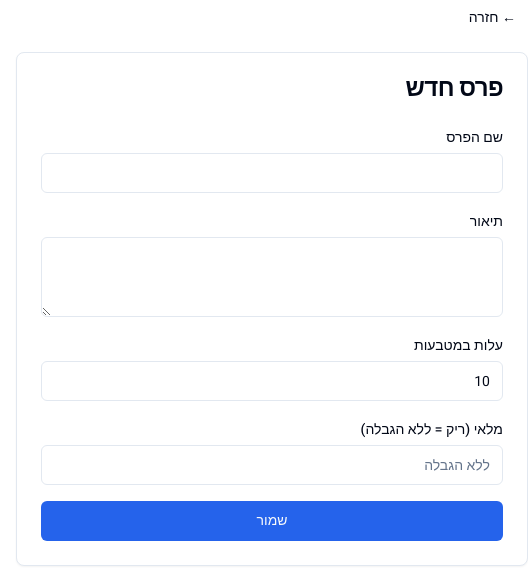
Test: RewardFormPage — create mode › disables submit button while saving
Type "גלידה" into the field labelled "שם הפרס" at x=272, y=173, box [41,153,503,193]
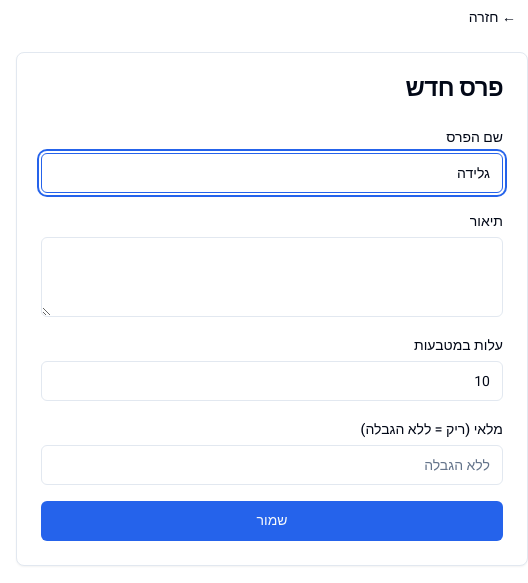
Replace the text in the number field labelled "עלות במטבעות" with "20" at x=272, y=381, box [41,361,503,401]
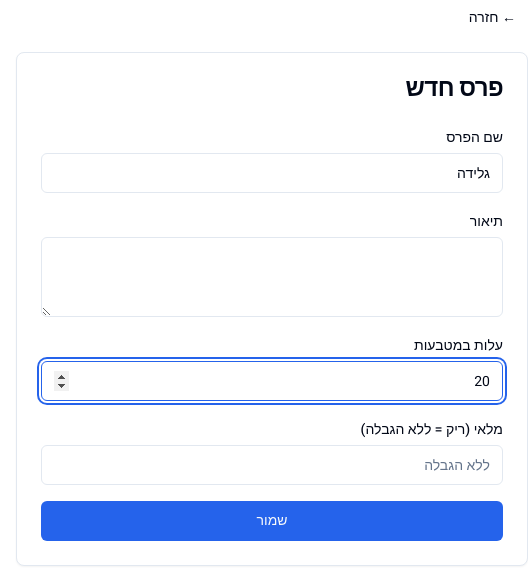
Click the button "שמור" at x=272, y=521, box [41,501,503,541]
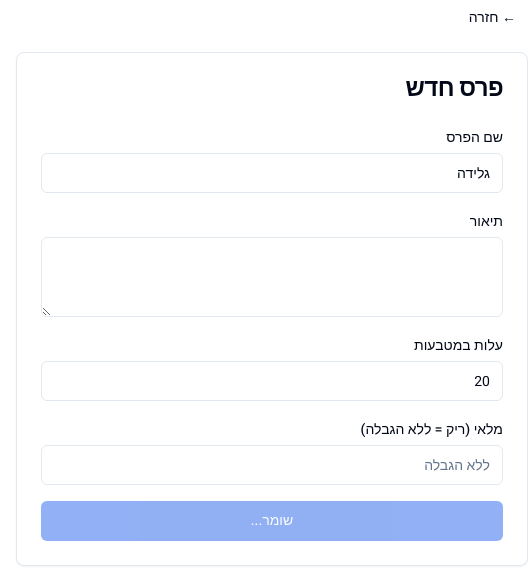
Expected: the button "שומר..." is disabled, [41,501,503,541]
